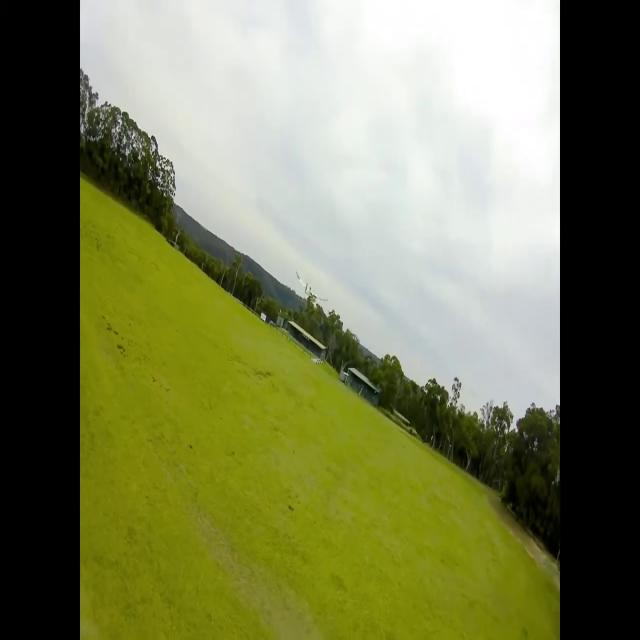iha: (295, 271, 328, 303)
